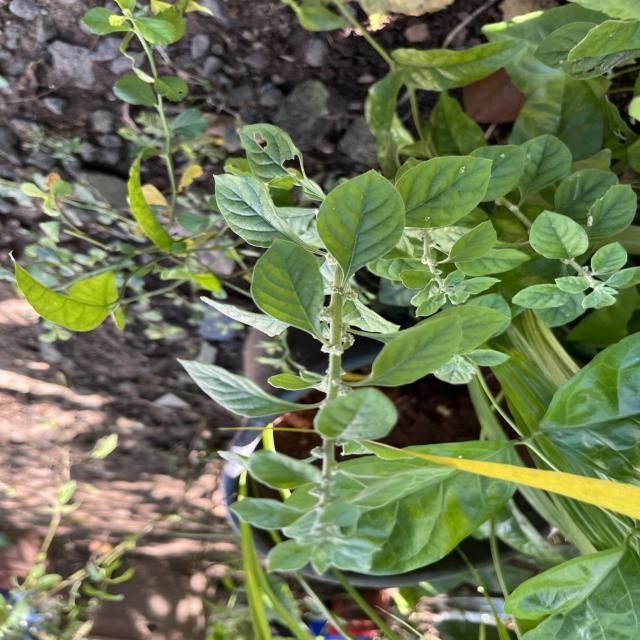Aerva lanata: (314, 166, 408, 280), (396, 154, 495, 230), (212, 172, 302, 251)
